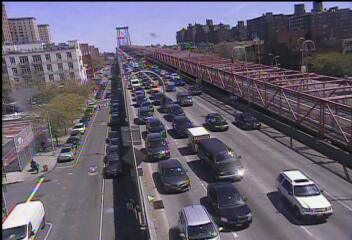neg: (56, 127, 67, 141), (35, 159, 45, 173), (50, 151, 60, 164), (13, 189, 22, 201)
pos: (39, 140, 48, 153), (26, 158, 35, 170)
